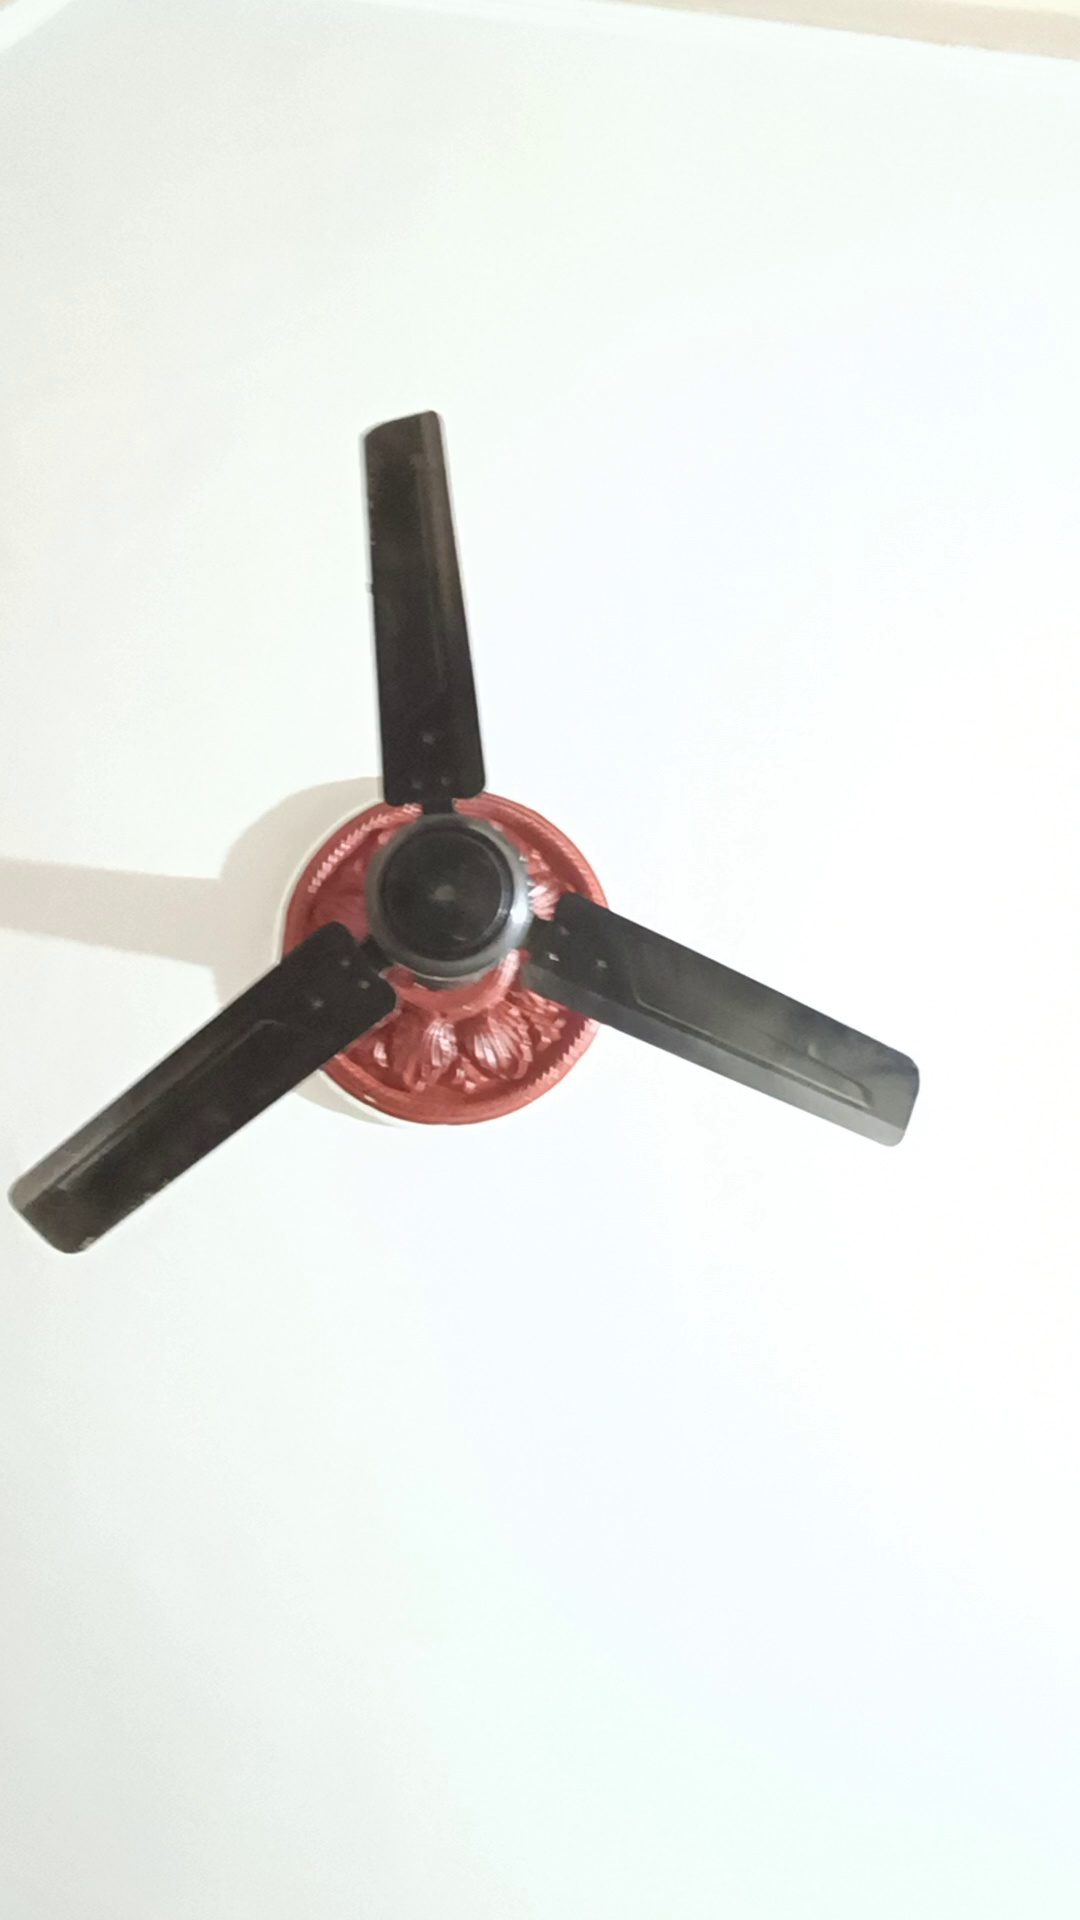fan: (1, 388, 940, 1275)
